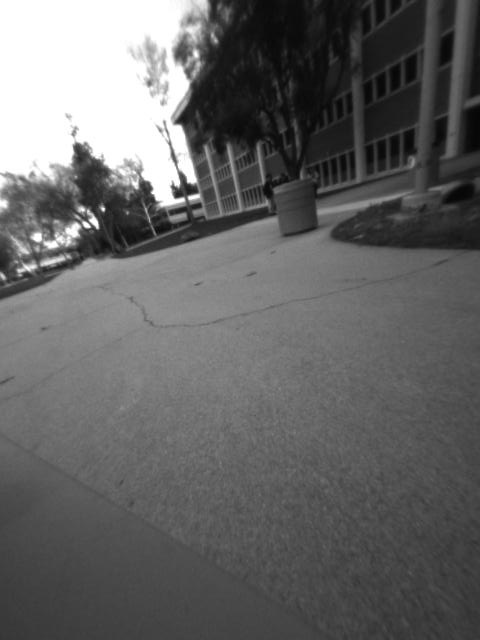trashcan: (272, 174, 319, 237)
